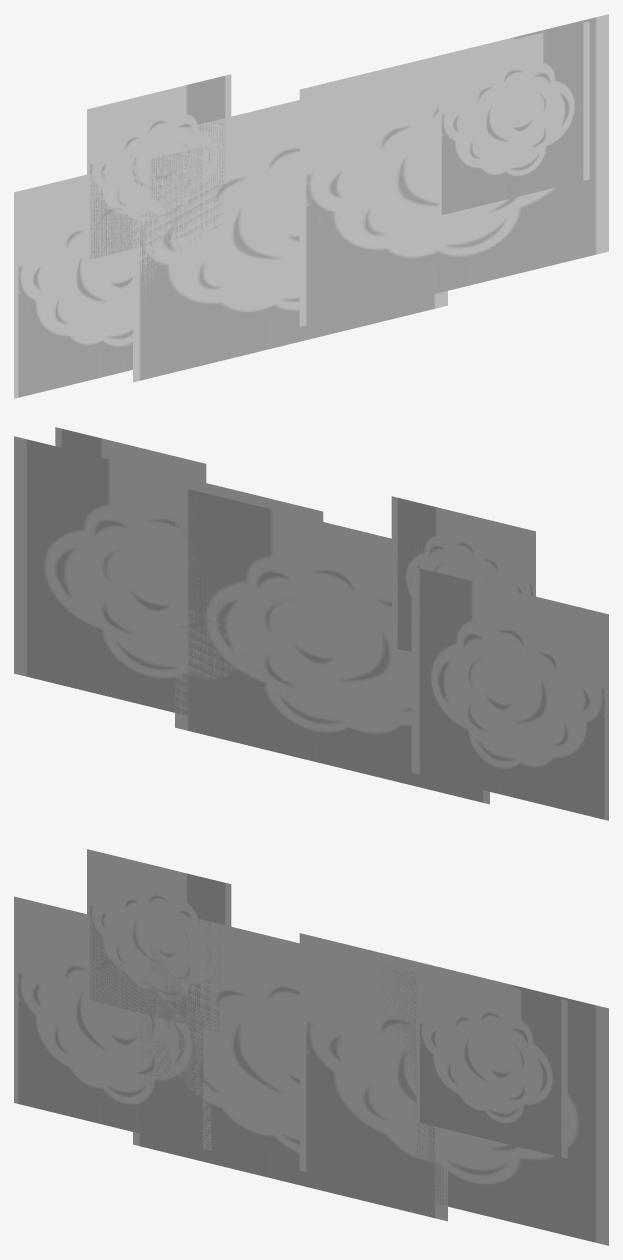
File: puff_balk_96.glb
3 renders of one model, top to bottom at view 1: azimuth 30°, elevation 25°; view 2: azimuth 150°, elevation 25°; view 3: azimuth 330°, elevation 25°, orthographic.
Visible parts, largest first — view 1: puff4_2, puff4_3, puff4_1, puff4, puff4_4; view 2: puff4_3, puff4_2, puff4_1, puff4_4, puff4; view 3: puff4_2, puff4_3, puff4_1, puff4, puff4_4.
Boxes of the visible parts, <box> form: puff4_2: <box>299,14,608,326</box>; puff4_3: <box>133,100,447,382</box>; puff4_1: <box>14,144,211,398</box>; puff4: <box>438,21,589,215</box>; puff4_4: <box>87,74,231,259</box>; puff4_3: <box>175,486,489,804</box>; puff4_2: <box>14,436,323,738</box>; puff4_1: <box>411,566,608,820</box>; puff4_4: <box>391,496,535,674</box>; puff4: <box>55,427,206,482</box>; puff4_2: <box>299,933,608,1245</box>; puff4_3: <box>133,904,447,1221</box>; puff4_1: <box>14,896,211,1150</box>; puff4: <box>416,964,567,1158</box>; puff4_4: <box>87,849,231,1032</box>.
Size of the model in its own units: 62.5 by 28.54 by 2.
1 material, 1 textured.
